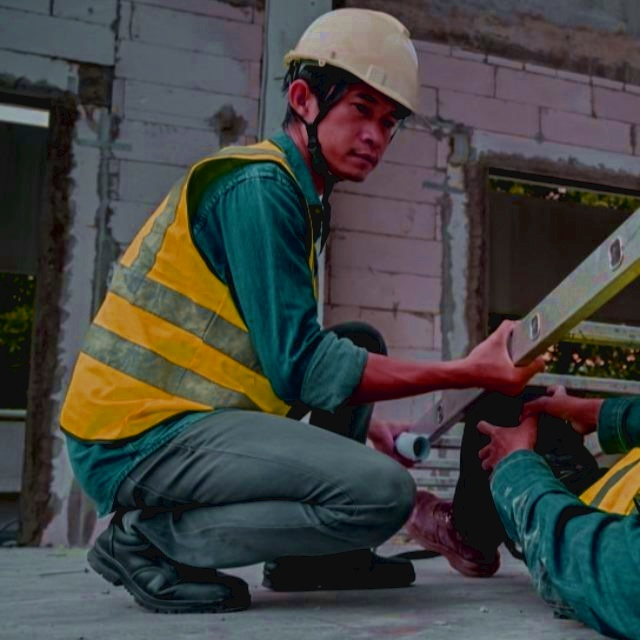Con_Casco: (284, 10, 423, 182)
Con_Chaleco: (69, 147, 337, 446)
